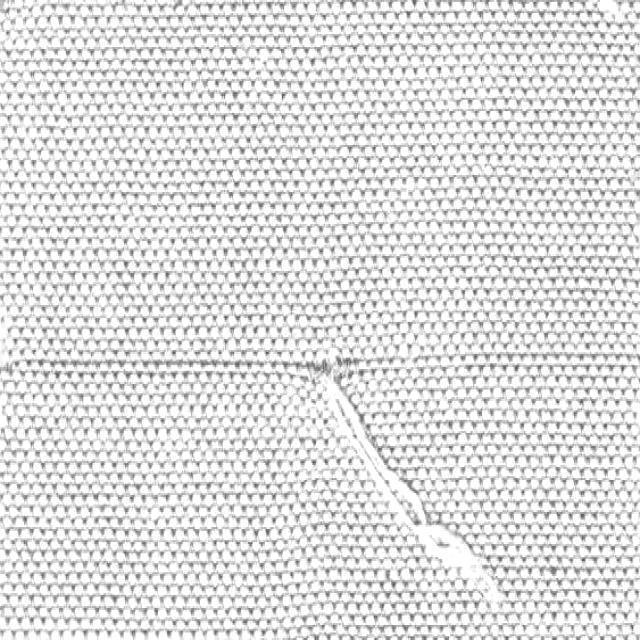stains: (0, 283, 638, 639)
